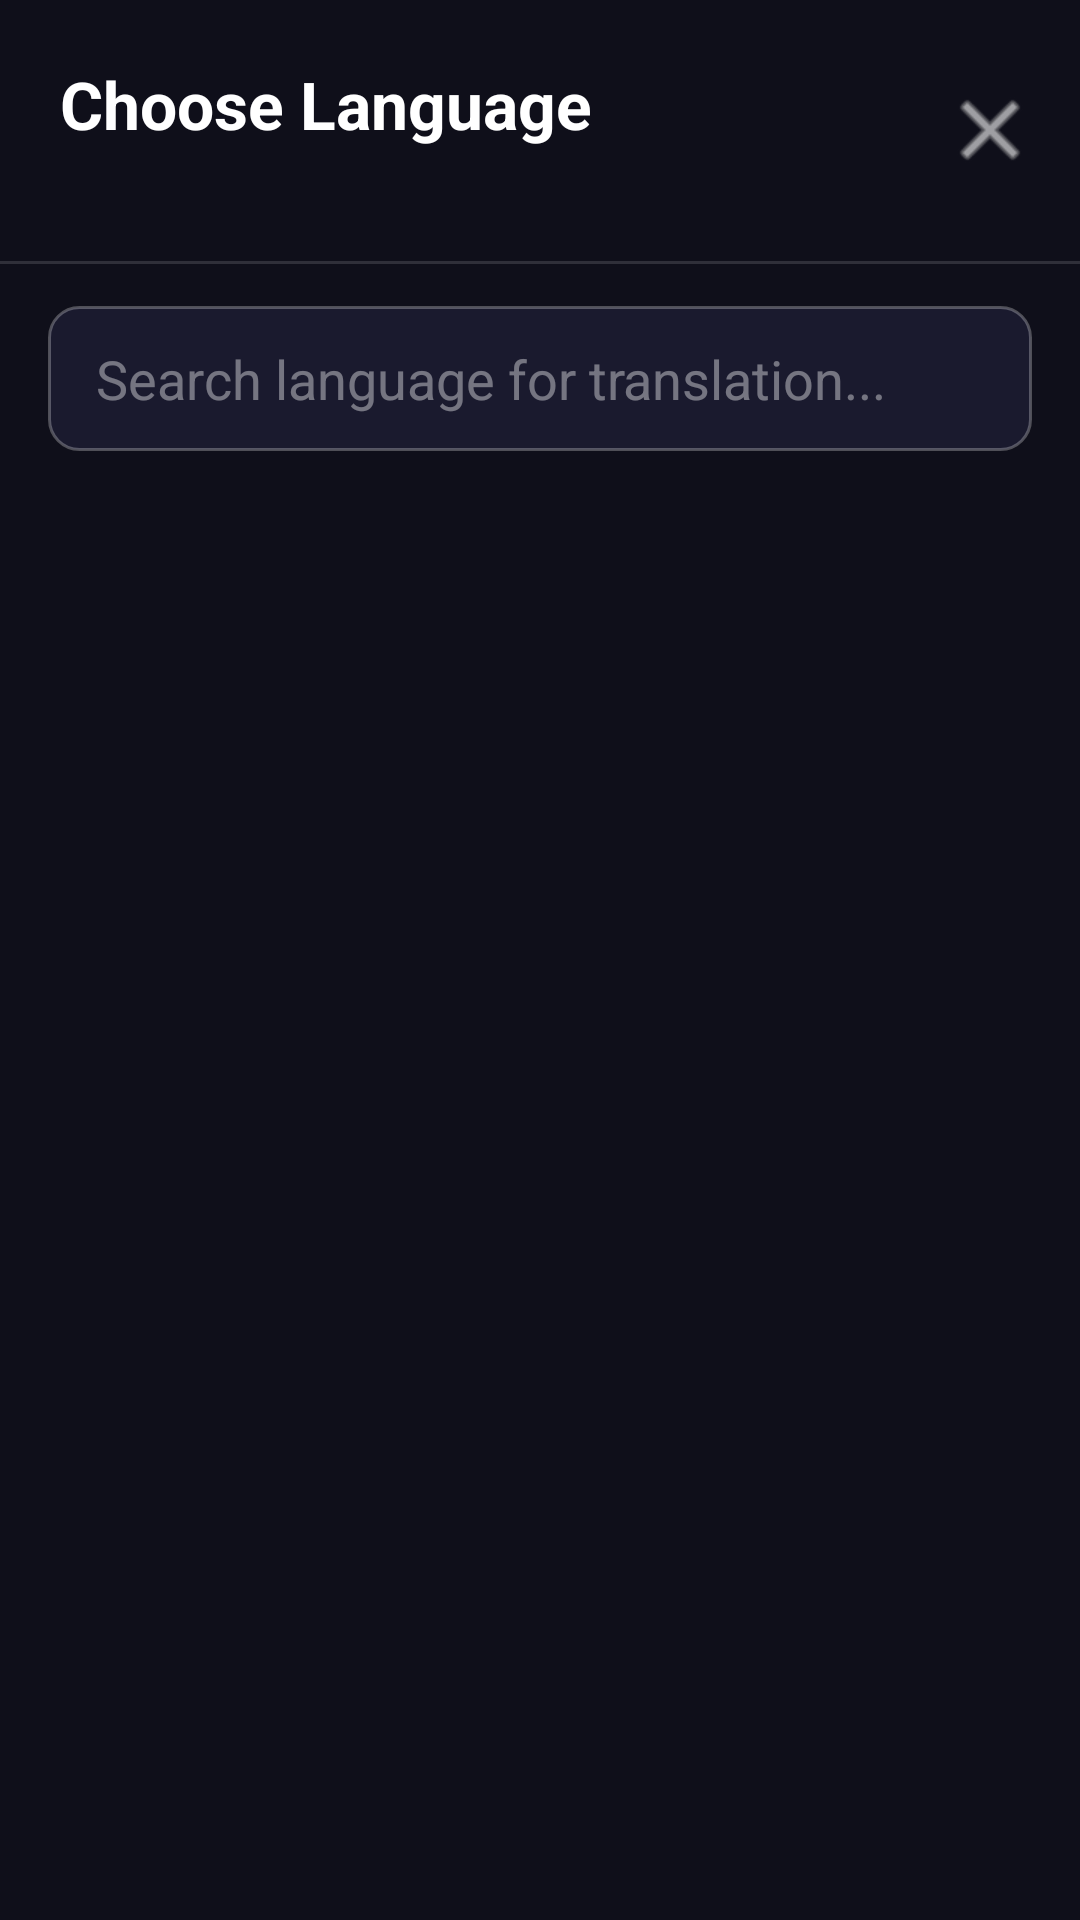

Icon click points for this 1080 × 1920 phone screenshot, format point (x, y):
Close: point (990, 130)
